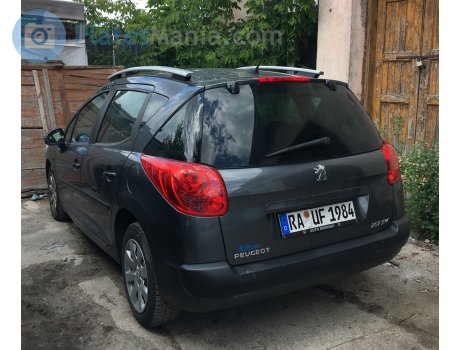License Plates: (292, 205, 357, 230)
